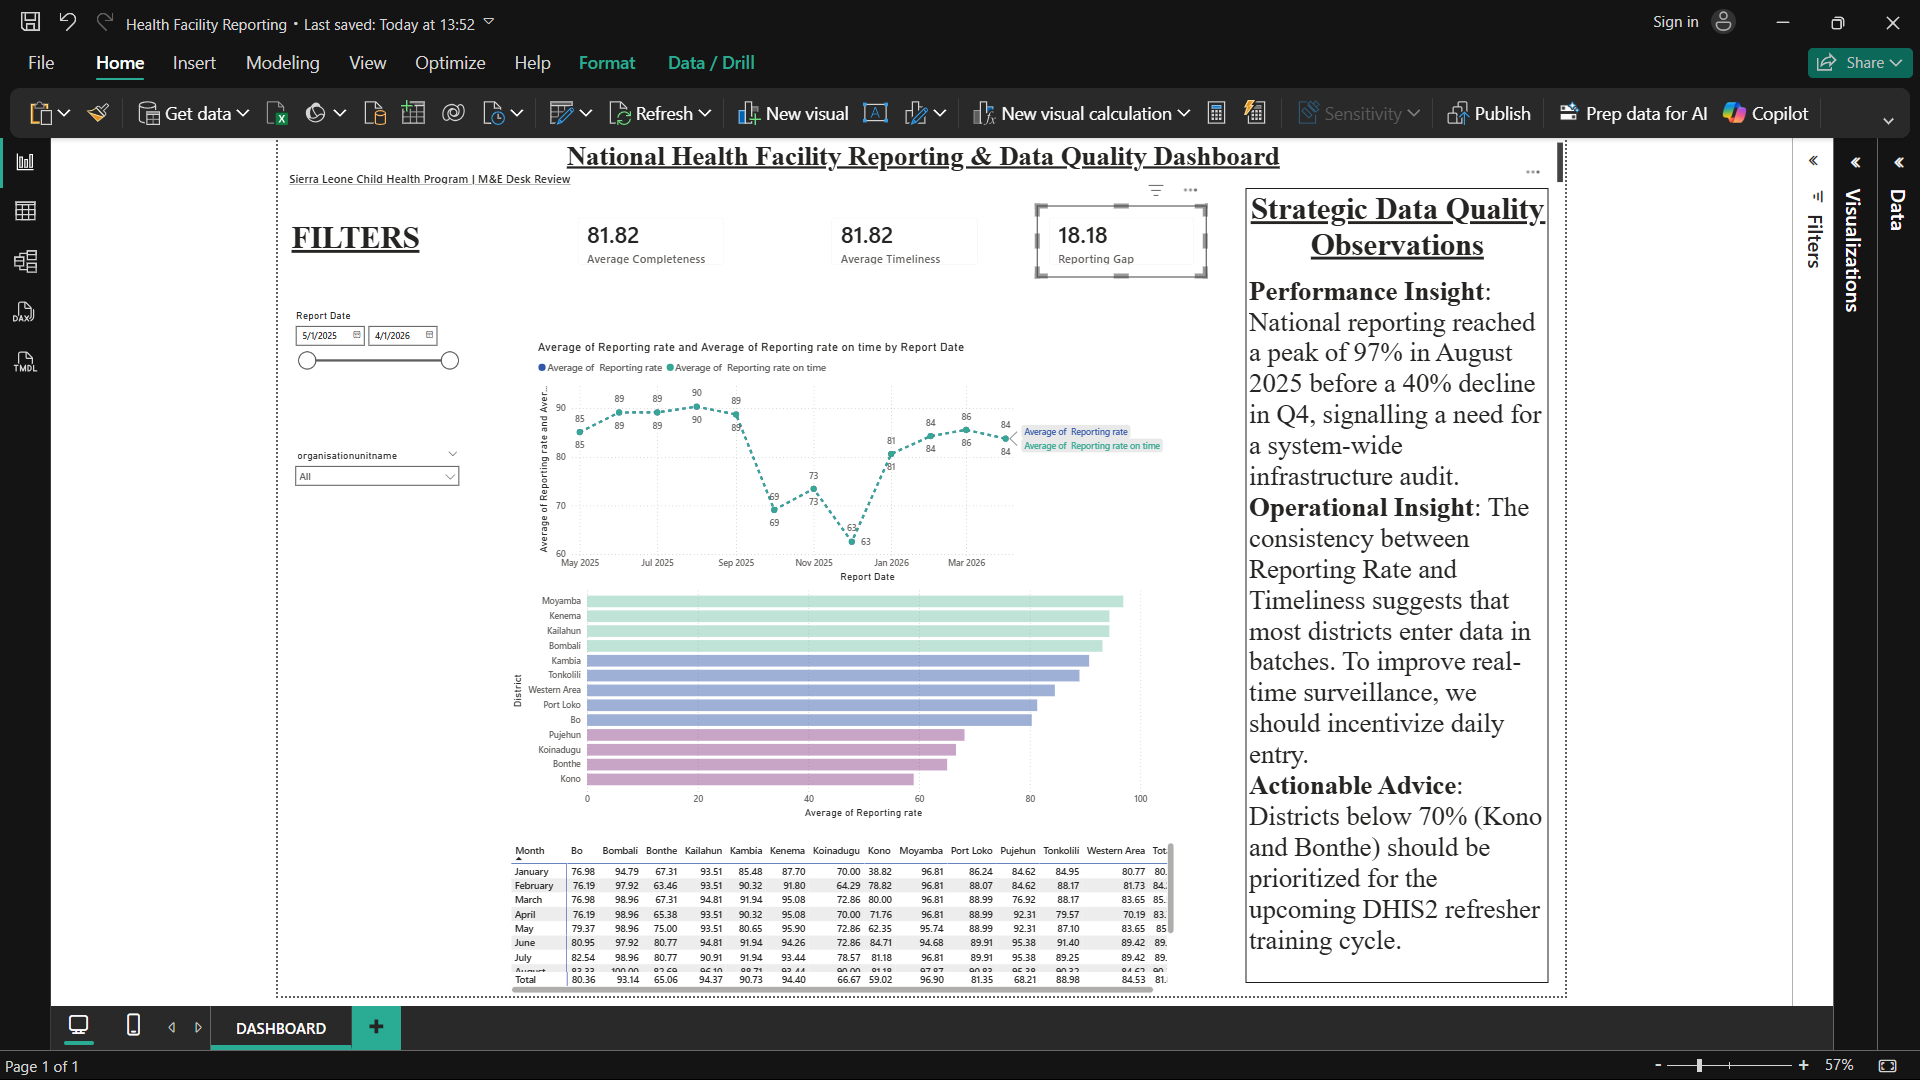

The dashboard page shown, as its layout file describes it:
{"tool":"powerbi","page":{"name":"DASHBOARD","canvas":[1800,1200],"ordinal":0},"visuals":[{"type":"textbox","box":[9.6,0,1790.7,69.5],"z":0},{"type":"cardVisual","fields":{"Data":["Avg(data (1). Reporting rate)"]},"box":[401.4,94.6,239.3,100.3],"z":1},{"type":"cardVisual","fields":{"Data":["Avg(data (1). Reporting rate on time)"]},"box":[756.4,94.6,239.3,100.3],"z":2},{"type":"cardVisual","fields":{"Data":["data (1).Reporting Gap"]},"box":[1061.3,94.6,237.4,100.3],"z":3},{"type":"clusteredBarChart","title":"Performance by district","fields":{"Category":["data (1).organisationunitname"],"Y":["Avg(data (1). Reporting rate)"]},"box":[322.3,600.1,899.2,357],"z":4},{"type":"lineChart","fields":{"Y":["Avg(data (1). Reporting rate)","Avg(data (1). Reporting rate on time)"],"Category":["data (1).Report Date"]},"box":[358.2,281.3,899.8,344.2],"z":5},{"type":"pivotTable","fields":{"Rows":["data (1).Report Date.Variation.Date Hierarchy.Month"],"Columns":["data (1).organisationunitname"],"Values":["Avg(data (1). Reporting rate)"]},"box":[322.3,980.3,935.9,220],"z":6},{"type":"slicer","fields":{"Values":["data (1).Report Date"]},"box":[11.6,233.5,248.9,181.4],"z":7},{"type":"slicer","fields":{"Values":["data (1).organisationunitname"]},"box":[13.5,430.3,248.9,148.6],"z":8},{"type":"textbox","box":[1352.7,69.5,424.5,1111.5],"z":10},{"type":"textbox","box":[13.5,110,248.9,102.3],"z":11}]}

Visuals, with their boxes on the page's 1800x1200 design canvas (x1, y1, x2, y2). These are canvas units, not pixel positions in the 1920x1080 screenshot, which may show the page scaled, cropped or inside an application window:
textbox: select_region(10, 0, 1800, 70)
cardVisual - Avg(data (1). Reporting rate): select_region(401, 95, 641, 195)
cardVisual - Avg(data (1). Reporting rate on time): select_region(756, 95, 996, 195)
cardVisual - data (1).Reporting Gap: select_region(1061, 95, 1299, 195)
"Performance by district" clusteredBarChart: select_region(322, 600, 1222, 957)
lineChart - Avg(data (1). Reporting rate) x Avg(data (1). Reporting rate on time): select_region(358, 281, 1258, 626)
pivotTable - data (1).Report Date.Variation.Date Hierarchy.Month x data (1).organisationunitname: select_region(322, 980, 1258, 1200)
slicer - data (1).Report Date: select_region(12, 234, 260, 415)
slicer - data (1).organisationunitname: select_region(14, 430, 262, 579)
textbox: select_region(1353, 70, 1777, 1181)
textbox: select_region(14, 110, 262, 212)
